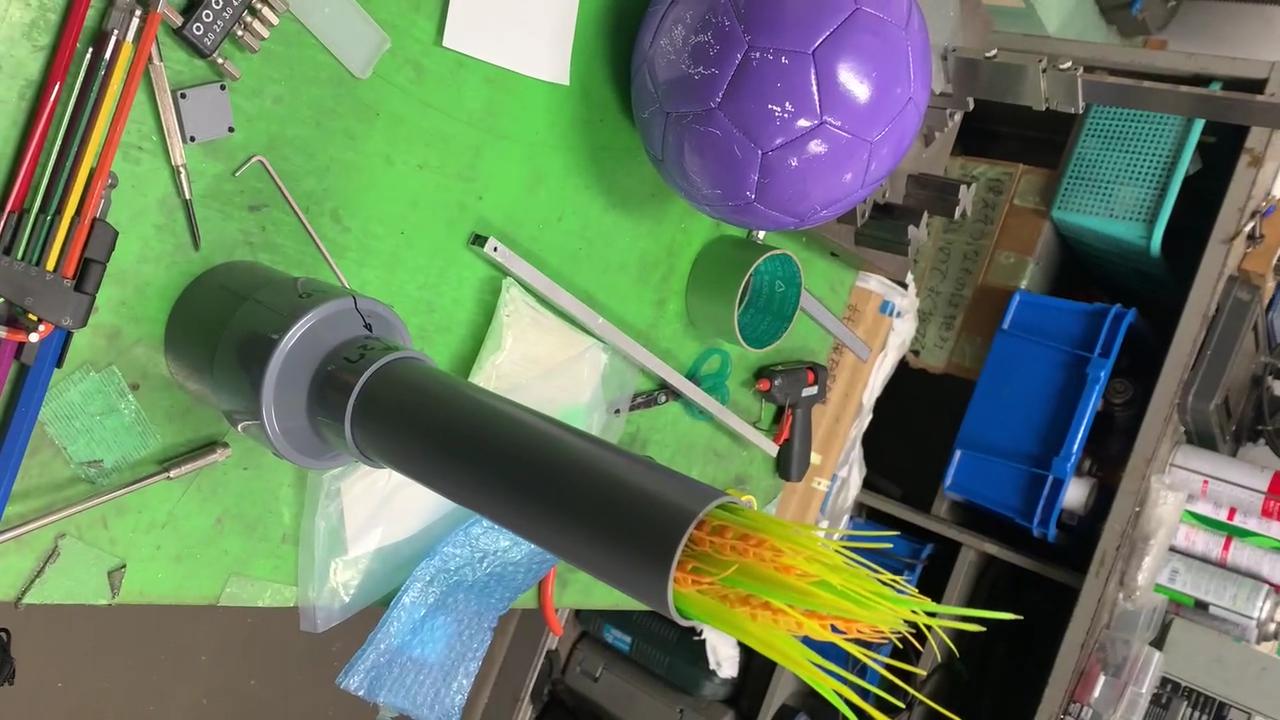purple: (626, 0, 937, 231)
